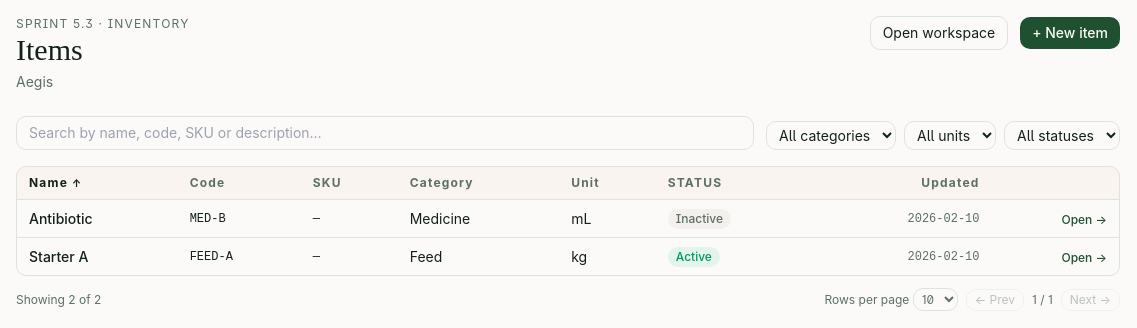
Test case: InventoryItemListPage › debounced search + status filter narrow the visible rows
This screenshot has width=1137, height=328.
Later steps or results of the test are not shown.
Check: the row with test id "item-row-FEED-A" is shown, box top-left (17, 238), bottom-right (1119, 275)
In the search field with test id "item-search": point(385, 133) top-left (16, 116), bottom-right (754, 150), type "antibio"
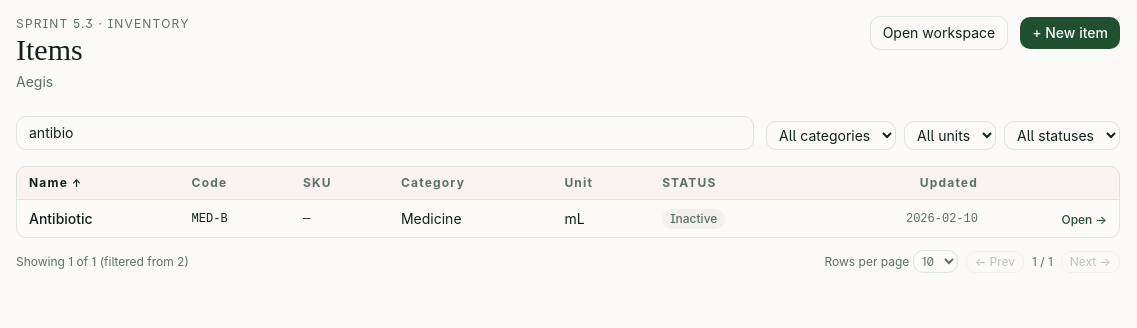
Check: the row with test id "item-row-MED-B" is shown, box top-left (17, 200), bottom-right (1119, 237)
Check: the row with test id "item-row-FEED-A" is gone
